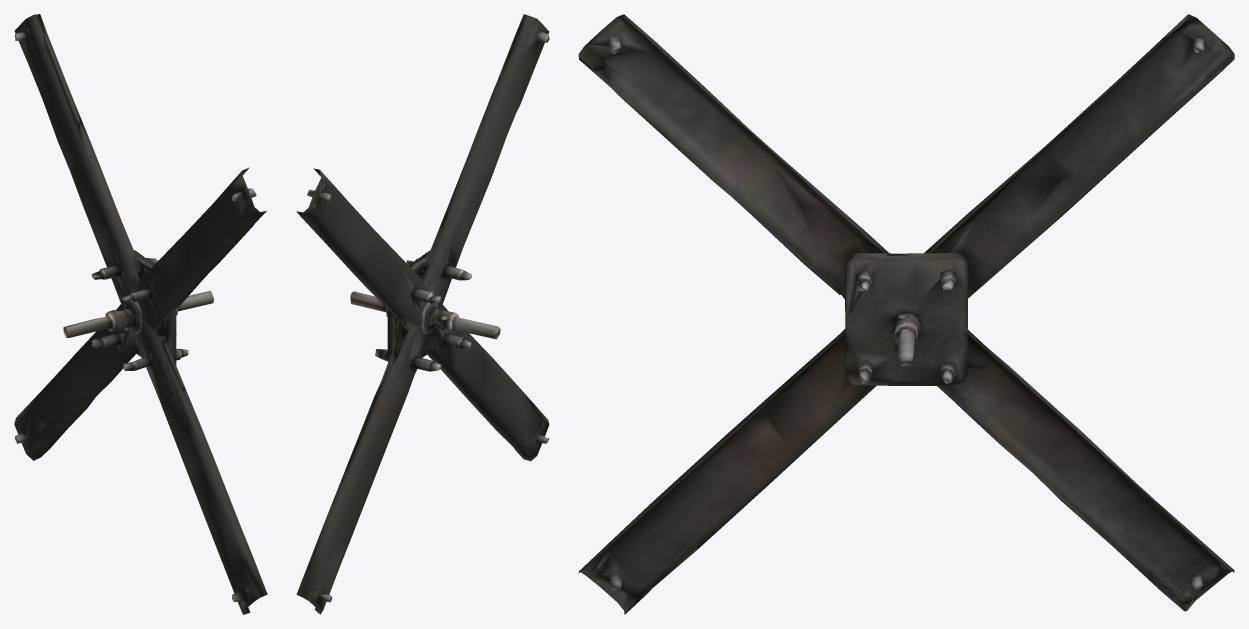
Rendered from x_brace.glb.
The picture shows the model from 3 angles, left to right: view 1: azimuth 30°, elevation 25°; view 2: azimuth 150°, elevation 25°; view 3: azimuth 270°, elevation 25°; orthographic projection. The views are drawn at different scales.
Parts seen in each view (by area): view 1: tripo_node_16dc01c6-fe9c-4f57-83f1-73cad264944b; view 2: tripo_node_16dc01c6-fe9c-4f57-83f1-73cad264944b; view 3: tripo_node_16dc01c6-fe9c-4f57-83f1-73cad264944b.
Boxes of the visible parts, x1=… form: tripo_node_16dc01c6-fe9c-4f57-83f1-73cad264944b: x1=14, y1=14, x2=267, y2=614; tripo_node_16dc01c6-fe9c-4f57-83f1-73cad264944b: x1=296, y1=14, x2=549, y2=614; tripo_node_16dc01c6-fe9c-4f57-83f1-73cad264944b: x1=578, y1=14, x2=1234, y2=614.
Bounding box in the file's own units: 0.34 × 0.9992 × 0.9949.
Materials: 1 (1 with a texture image).
